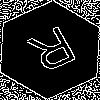R: (25, 25, 85, 82)
